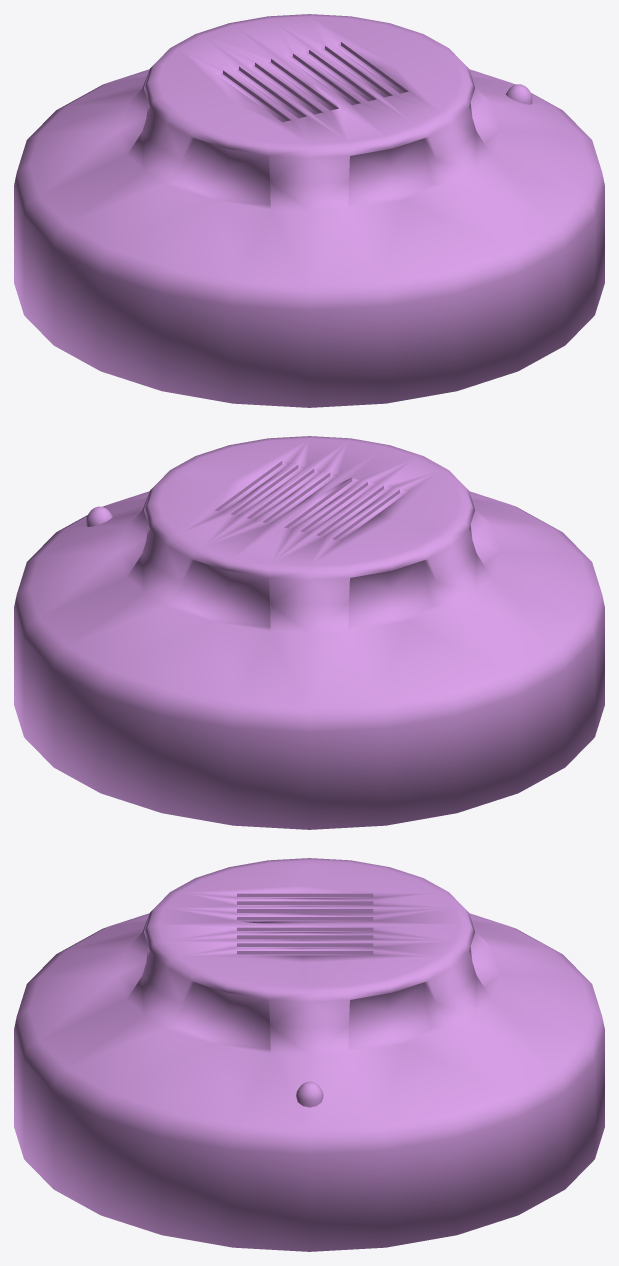
Rendered from detector.obj.
The picture shows the model from 3 angles, top to bottom: view 1: azimuth 30°, elevation 25°; view 2: azimuth 150°, elevation 25°; view 3: azimuth 270°, elevation 25°; orthographic projection.
Visible parts, largest first — view 1: smoke_detector; view 2: smoke_detector; view 3: smoke_detector.
Part boxes in pixels (x1,y1,x2,y2): smoke_detector: (14, 14, 604, 407); smoke_detector: (14, 436, 604, 829); smoke_detector: (14, 858, 604, 1251).
Bounding box in the file's own units: 0.8789 × 0.3325 × 0.8789.
